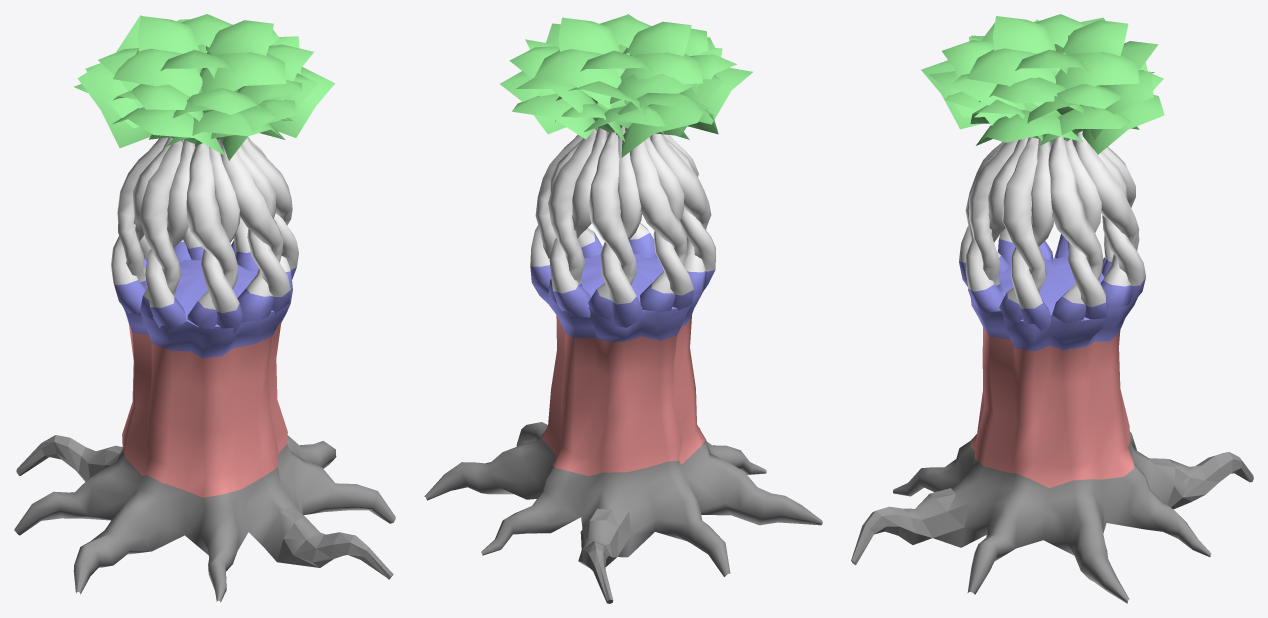
The model's file is PriMT_LandMark1_tree01.gltf.
The picture shows the model from 3 angles, left to right: view 1: azimuth 30°, elevation 25°; view 2: azimuth 150°, elevation 25°; view 3: azimuth 270°, elevation 25°; orthographic projection. The views are drawn at different scales.
Visible parts, largest first — view 1: PriMT_LandMark1_tree01; view 2: PriMT_LandMark1_tree01; view 3: PriMT_LandMark1_tree01.
Part boxes in pixels (bbox=[...]): PriMT_LandMark1_tree01: bbox=[14, 14, 395, 602]; PriMT_LandMark1_tree01: bbox=[424, 14, 822, 603]; PriMT_LandMark1_tree01: bbox=[851, 14, 1253, 603].
Bounding box in the file's own units: 15.62 × 22.13 × 16.44.
